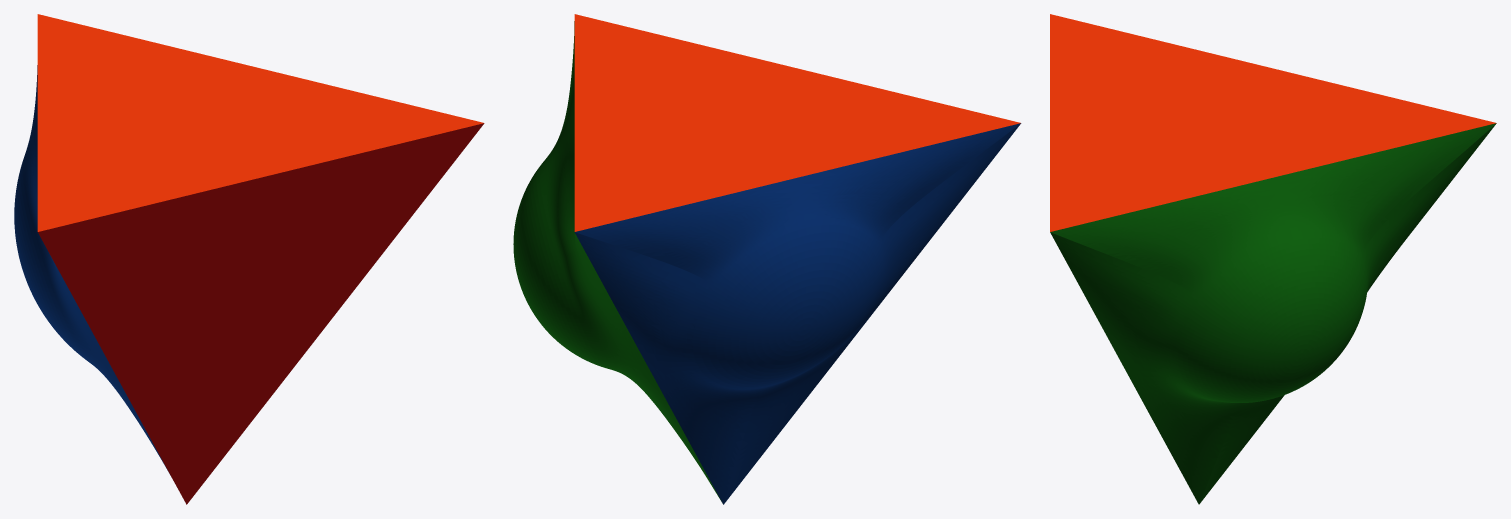
Rendered from 0_0_2_3_tetrahedron.obj.
3 renders of one model, left to right at view 1: azimuth 30°, elevation 25°; view 2: azimuth 150°, elevation 25°; view 3: azimuth 270°, elevation 25°, orthographic.
Parts seen in each view (by area): view 1: Level_0_-_level_0_front, Level_0_-_level_0_top, Level_2_-_level_2_left_Level_2_-_level_2_left.001; view 2: Level_2_-_level_2_left_Level_2_-_level_2_left.001, Level_0_-_level_0_top, Level_3_-_level_3_right_Level_3_-_level_3_right.001; view 3: Level_3_-_level_3_right_Level_3_-_level_3_right.001, Level_0_-_level_0_top.
Part boxes in pixels (bbox=[...]): Level_0_-_level_0_front: bbox=[38, 123, 484, 504]; Level_0_-_level_0_top: bbox=[37, 14, 483, 231]; Level_2_-_level_2_left_Level_2_-_level_2_left.001: bbox=[14, 65, 171, 477]; Level_2_-_level_2_left_Level_2_-_level_2_left.001: bbox=[574, 123, 1021, 504]; Level_0_-_level_0_top: bbox=[574, 14, 1020, 231]; Level_3_-_level_3_right_Level_3_-_level_3_right.001: bbox=[513, 21, 722, 503]; Level_3_-_level_3_right_Level_3_-_level_3_right.001: bbox=[1050, 123, 1496, 504]; Level_0_-_level_0_top: bbox=[1050, 14, 1496, 231].
Bounding box in the file's own units: 0.1 × 0.0816 × 0.0866.
